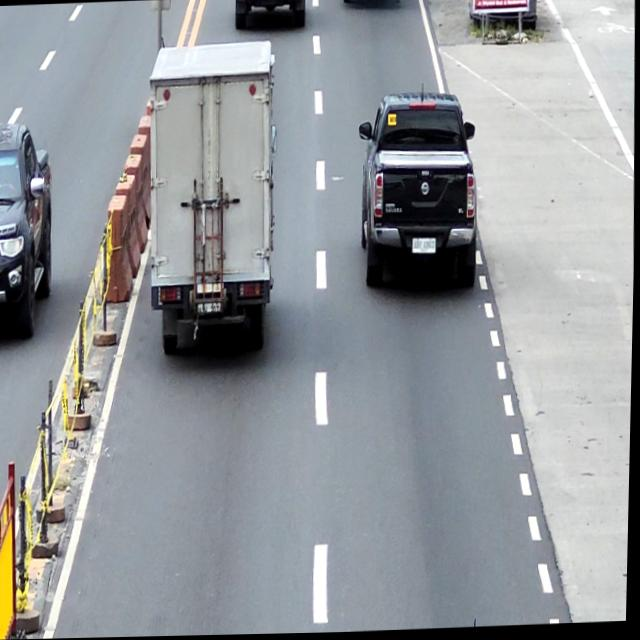Car: (355, 91, 482, 294), (0, 118, 57, 337)
License-Plate: (413, 237, 437, 257), (199, 303, 222, 316)
Truck: (143, 40, 283, 358)
